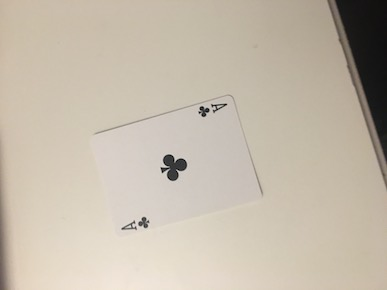AceOfClubs: (85, 94, 271, 239)
